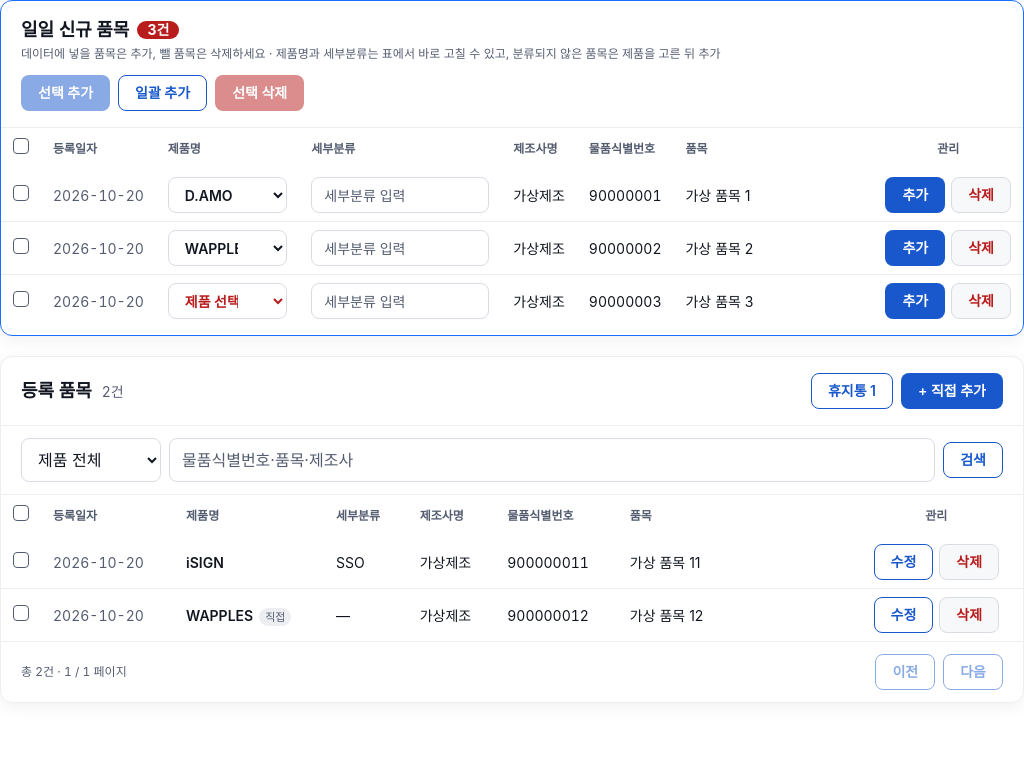
Test case: 일일 신규 품목 카드 › 선택 추가: 체크한 품목만 version 과 함께 보내고, 성공 안내 후 다시 불러온다
Click the checkbox named "90000001 가상 품목 1 선택" at x=21, y=192, box top-left (13, 184), bottom-right (29, 200)
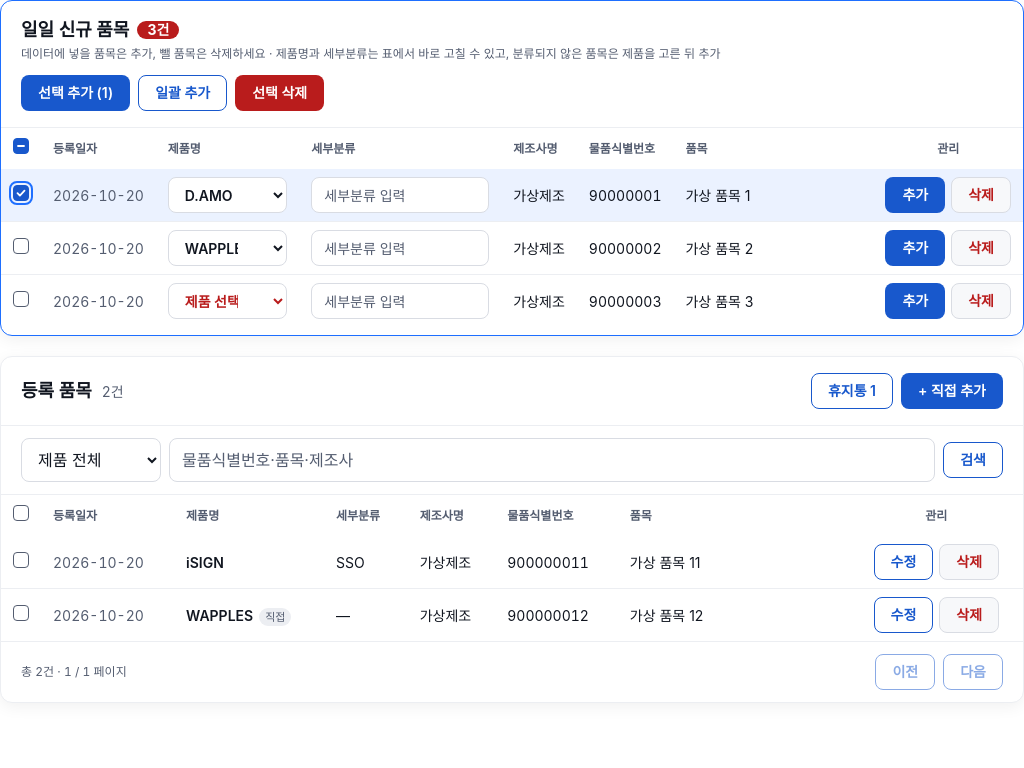
Click the button "선택 추가 (1)" at x=76, y=93, box top-left (21, 75), bottom-right (130, 111)
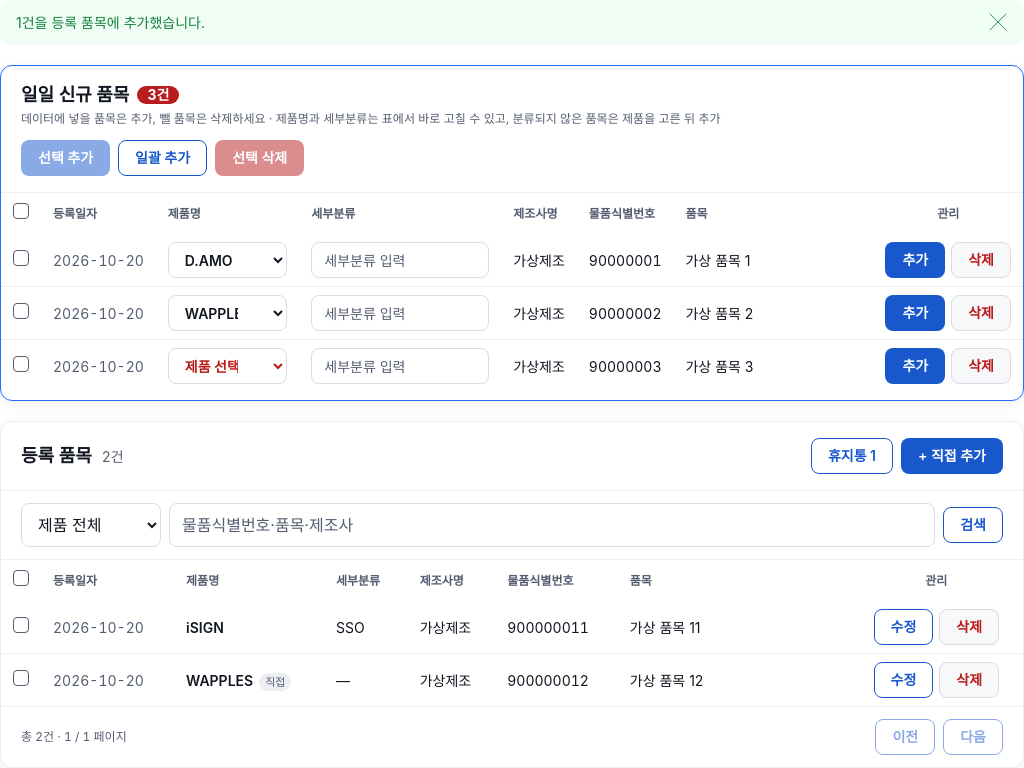
Expected: the message shows "1건을 등록 품목에 추가했습니다", top-left (16, 14), bottom-right (205, 31)
